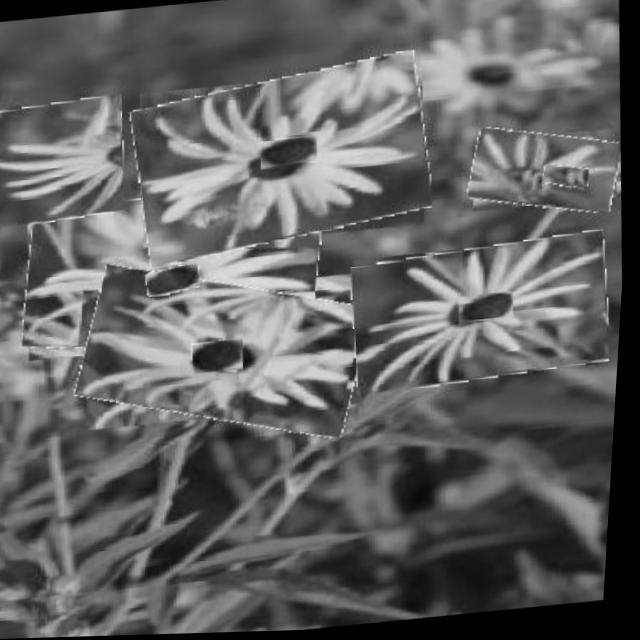Flower: (127, 59, 442, 263), (19, 181, 334, 370), (74, 257, 380, 450), (349, 235, 620, 395), (0, 95, 134, 228), (467, 124, 627, 222), (194, 339, 250, 377), (260, 137, 321, 171), (147, 264, 206, 299), (461, 295, 519, 327), (543, 165, 594, 193)
